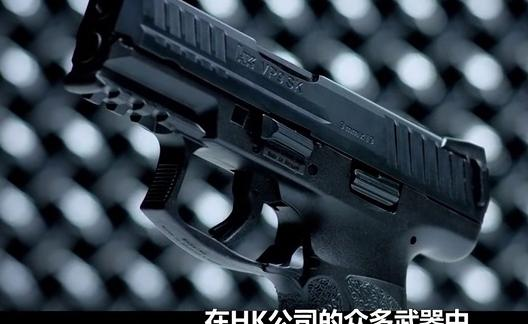gun: (1, 1, 528, 324)
